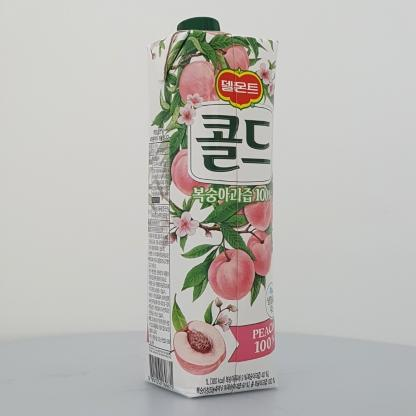-------------100_: (144, 16, 279, 398)
